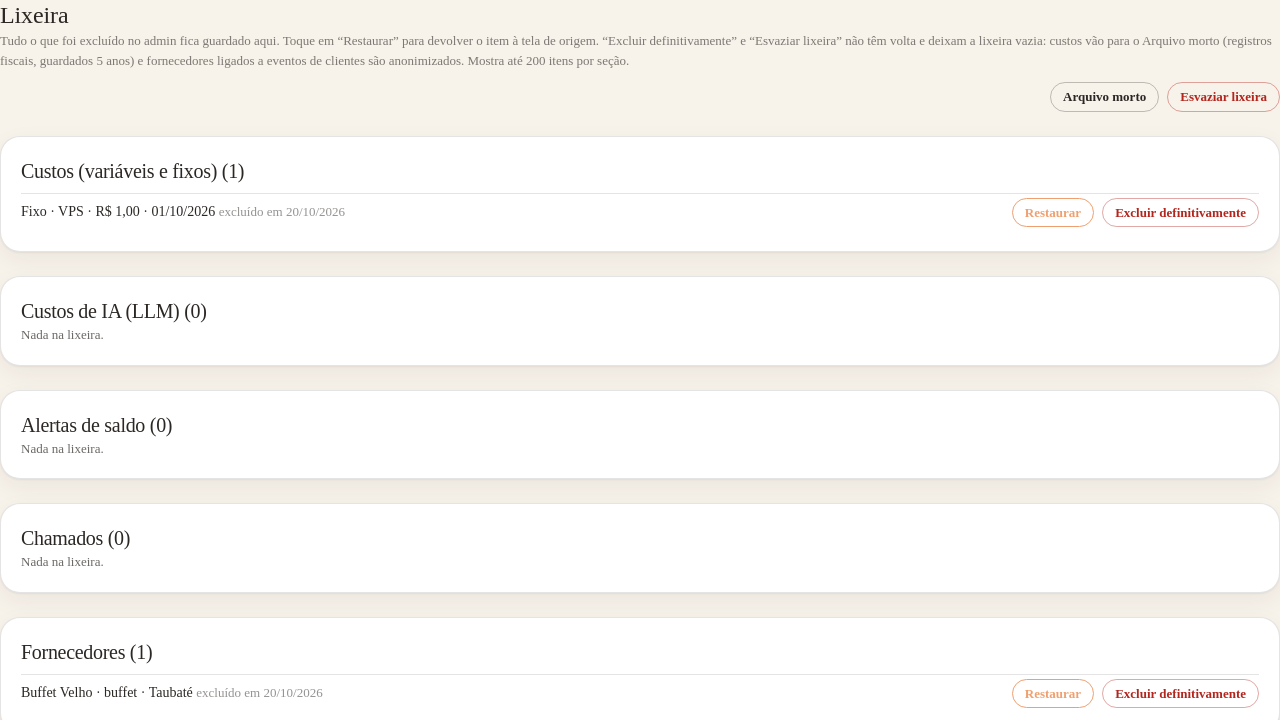
it: lixeira: exclusão definitiva › botões com confirmação digitada e aviso de permanente; botão Arquivo morto dentro da lixeira
Click the button with test id "lixeira-esvaziar".
click(1224, 97)  # box [1167,82,1279,112]
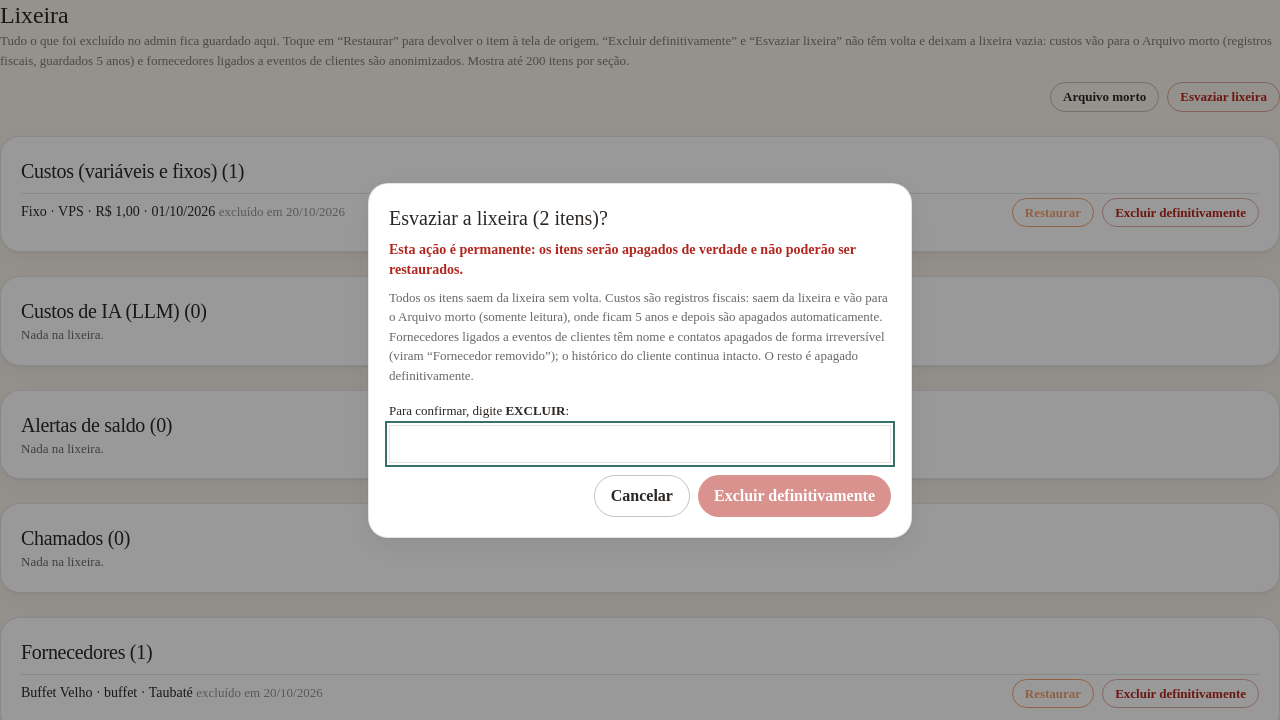
expect the text "Esta ação é permanente" is shown: met, box [389,242,856,276]
expect the button with test id "lixeira-esvaziar-confirm" is disabled: met, box [698,474,891,516]
Type "EXCLUIR" into the field labelled "Para confirmar, digite EXCLUIR:".
click(640, 444); type("EXCLUIR")  # box [389,424,891,462]
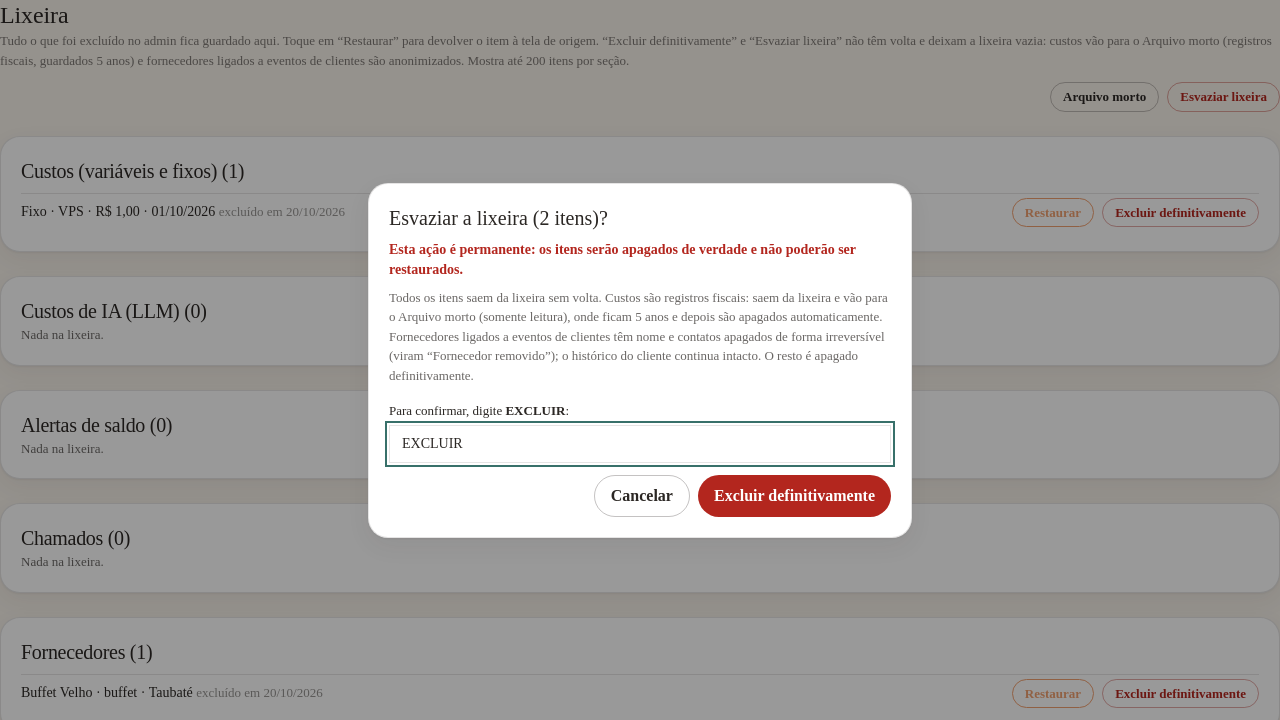
expect the button with test id "lixeira-esvaziar-confirm" is enabled: met, box [698,474,891,516]
